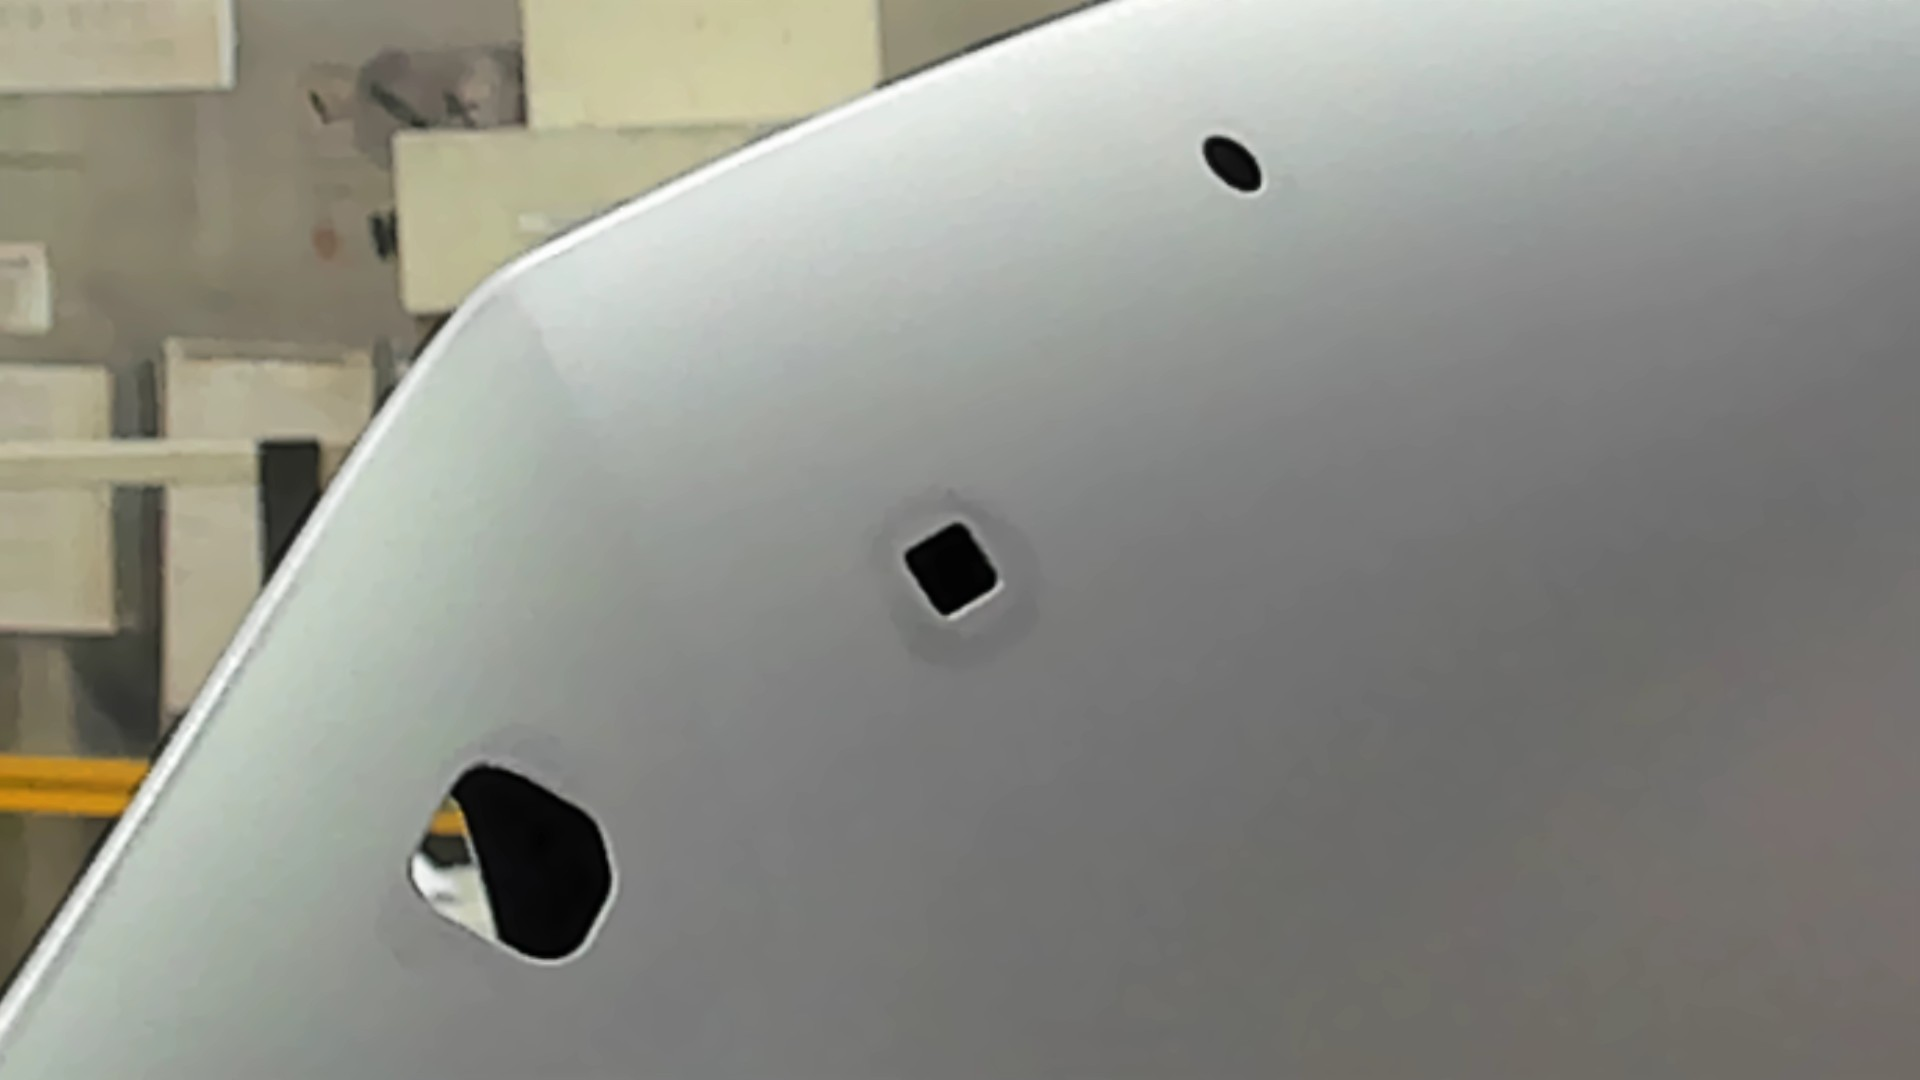chico: (1197, 127, 1269, 203)
grande: (402, 752, 624, 977)
mediano: (893, 516, 1010, 626)
